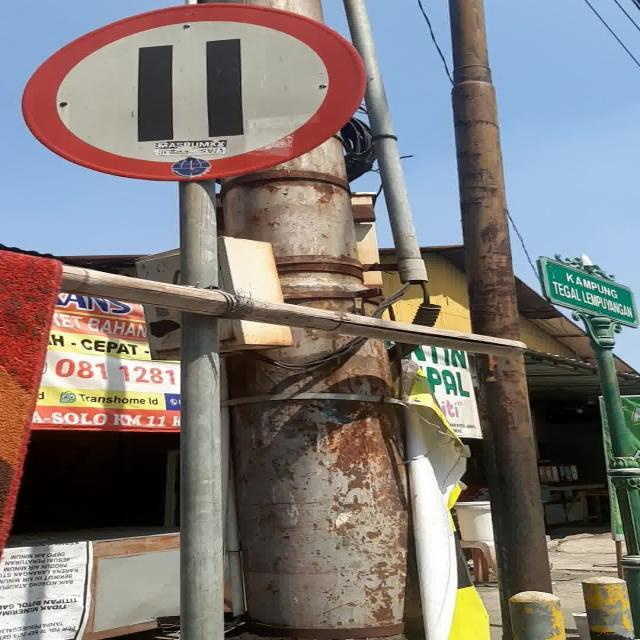Larangan Muatan - 10 ton: (21, 3, 366, 180)
